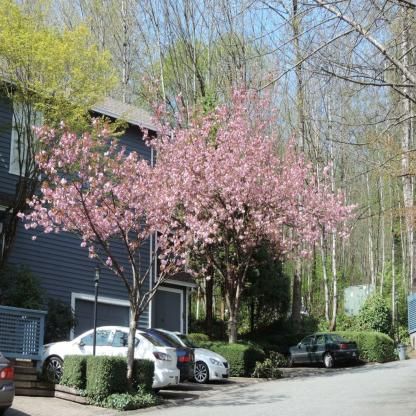Car: (36, 324, 182, 388), (170, 328, 230, 389), (285, 328, 362, 369), (153, 328, 195, 381), (1, 350, 16, 412)
